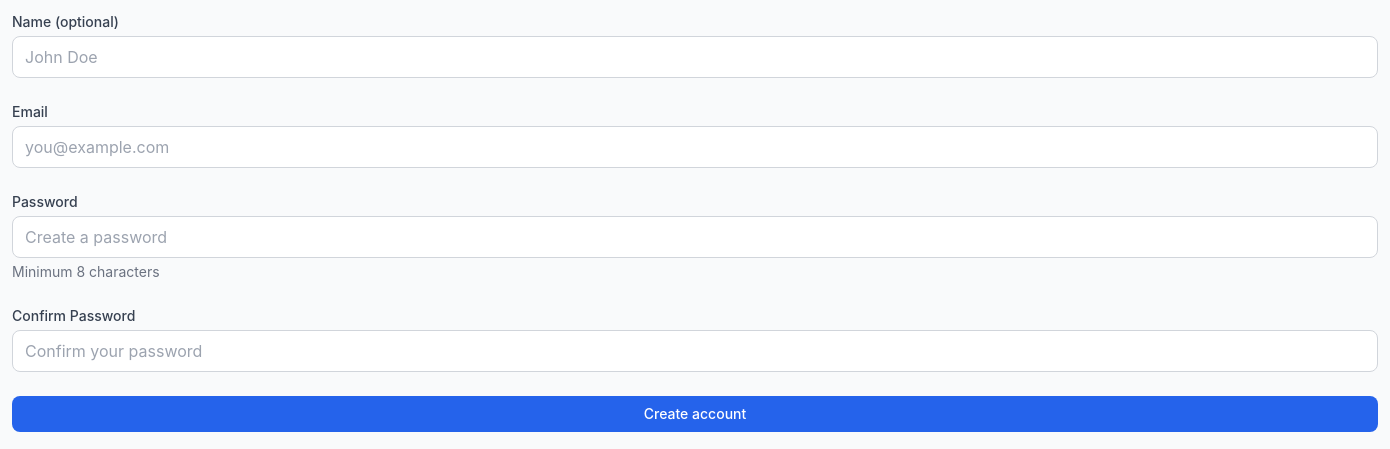
Test: SignupForm › shows validation error for short password
Type "test@example.com" into the field labelled "Email" at x=695, y=147, box x1=12 y1=126 x2=1378 y2=168
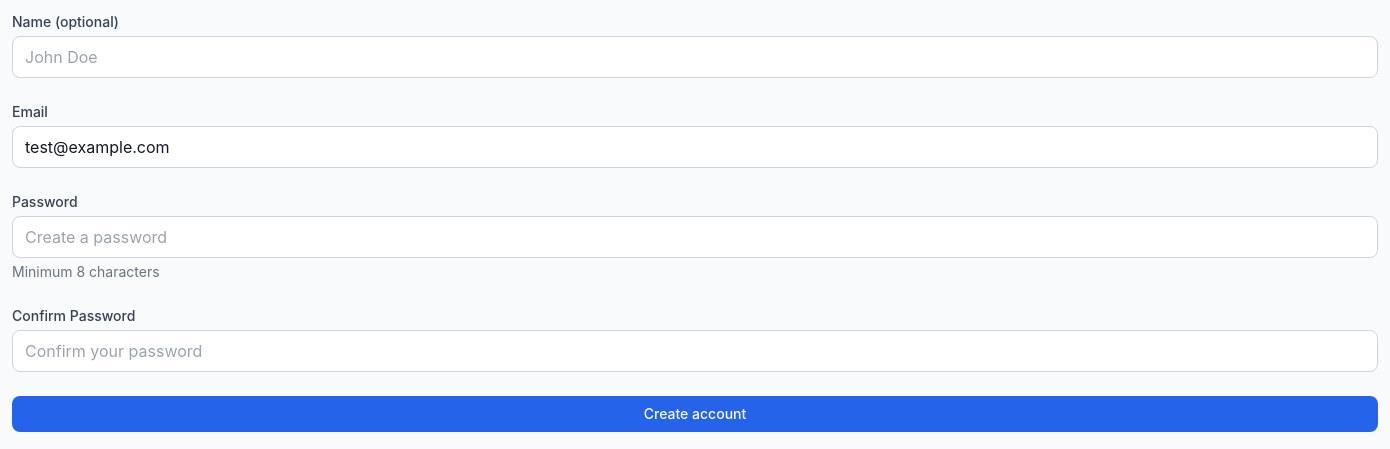
Type "short" into the password field labelled "Password" at x=695, y=237, box x1=12 y1=216 x2=1378 y2=258
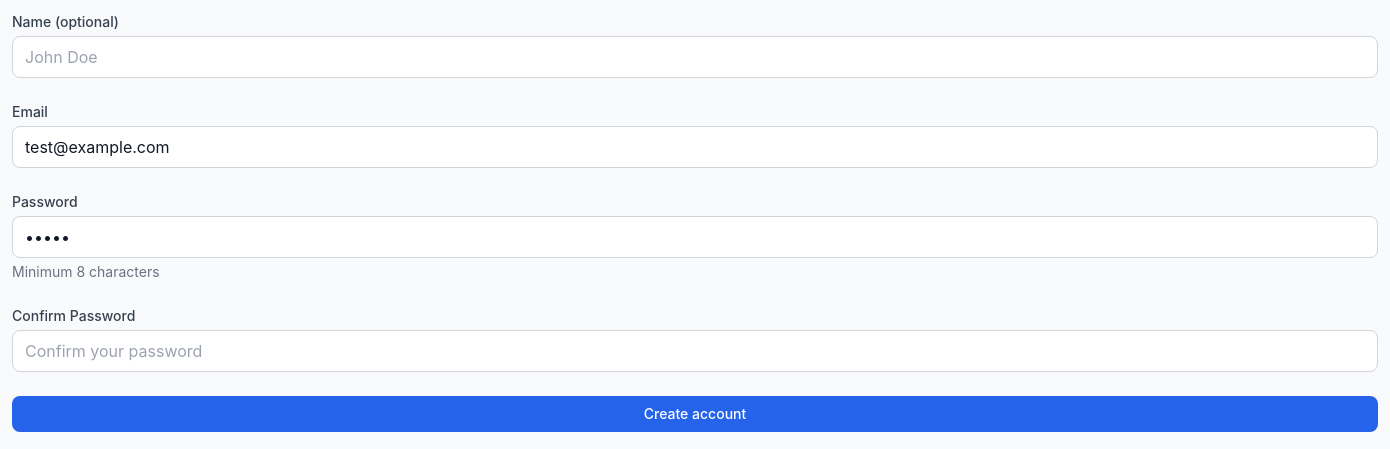
Type "short" into the password field labelled "Confirm Password" at x=695, y=351, box x1=12 y1=330 x2=1378 y2=372
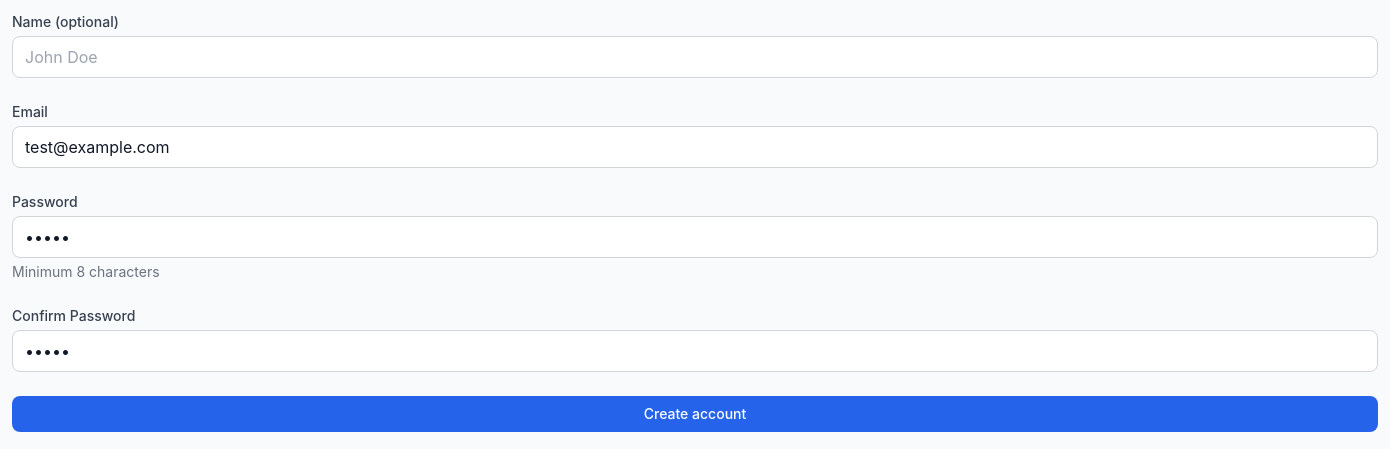
Click the button "Create account" at x=695, y=414, box x1=12 y1=396 x2=1378 y2=432
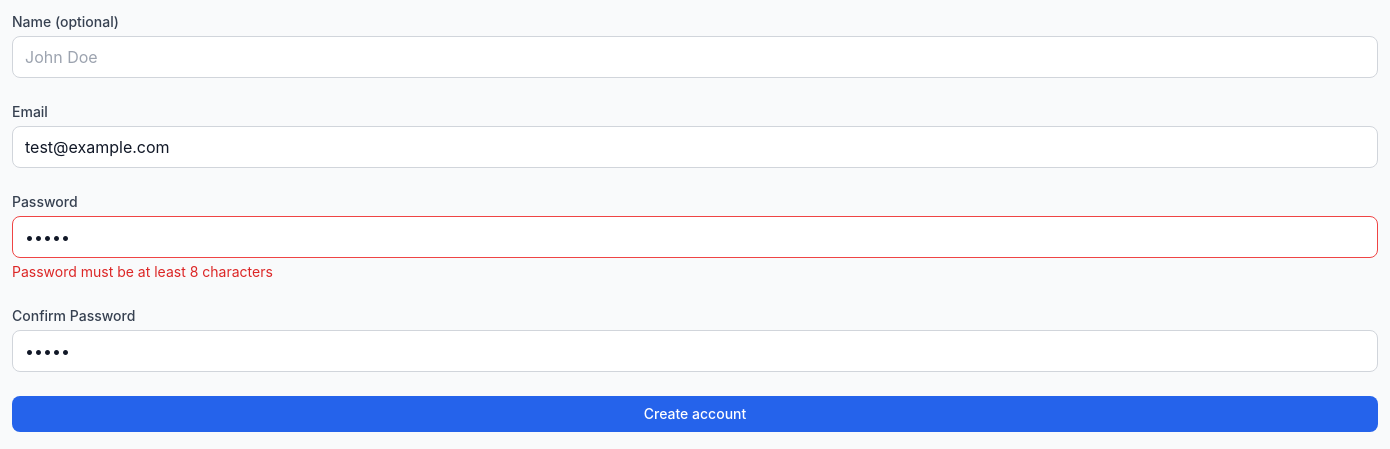
Result: the text "Password must be at least 8 characters" is shown at x1=12 y1=263 x2=273 y2=280
